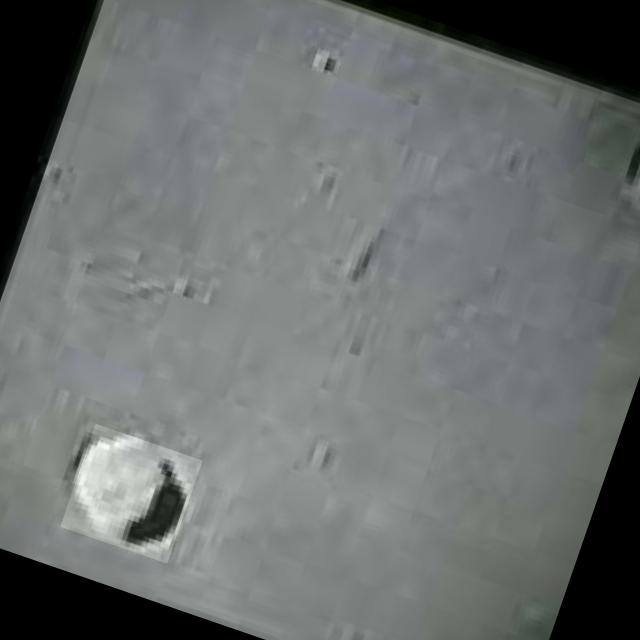crater: (60, 424, 202, 564)
